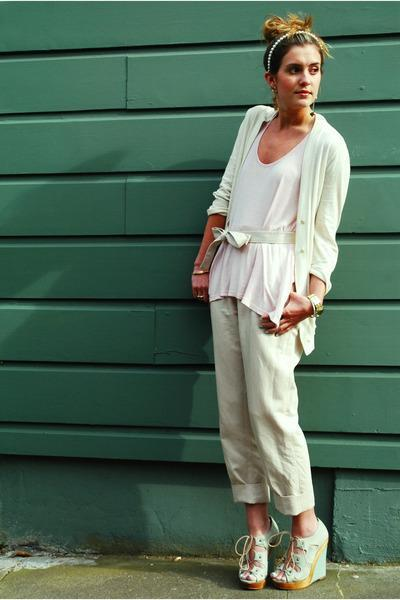pants: (211, 295, 315, 519)
shirt: (208, 105, 350, 347)
shoe: (235, 516, 336, 586)
